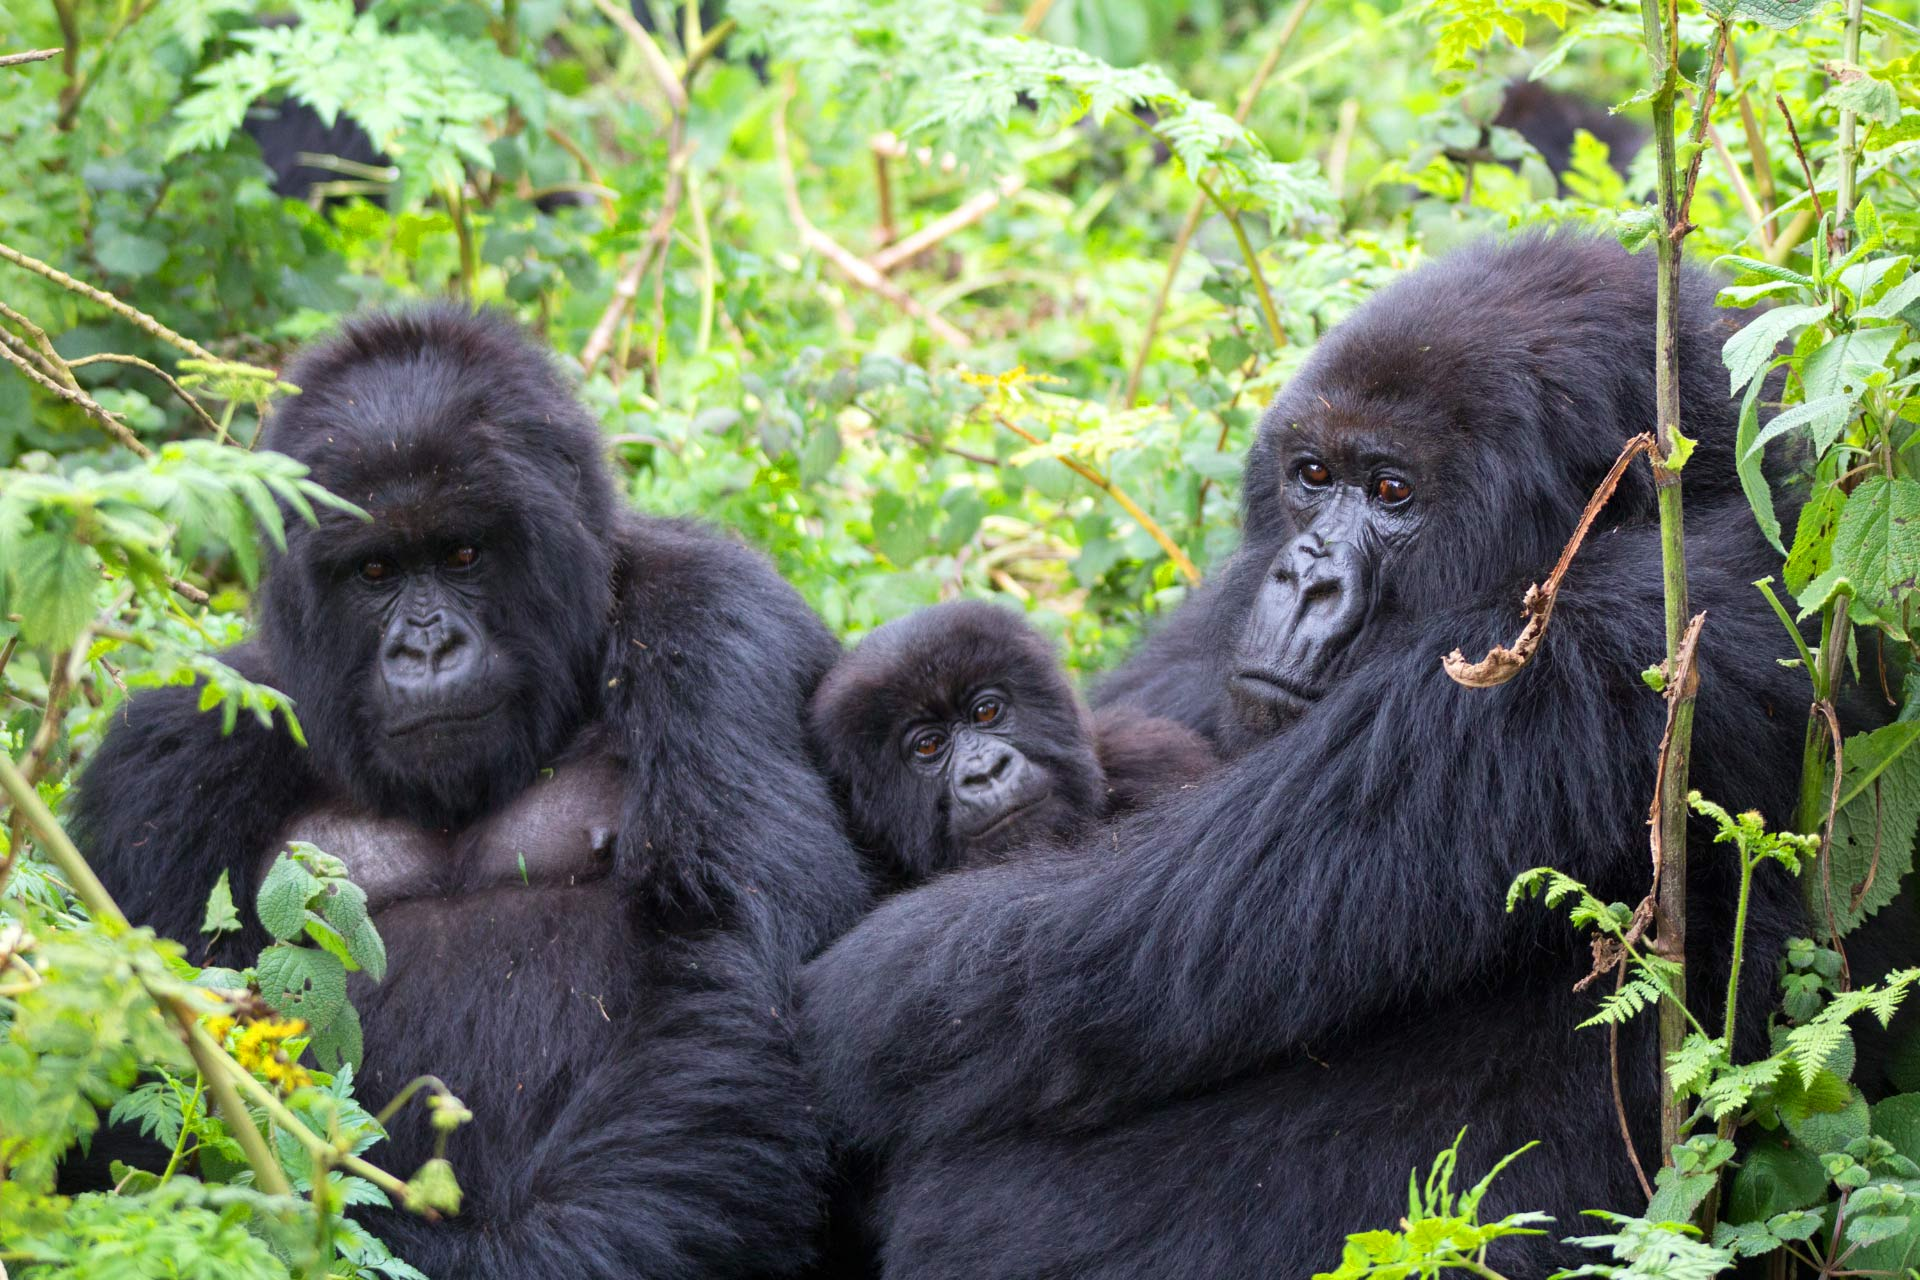Goriila: (1181, 201, 1920, 1273), (70, 344, 866, 1181), (804, 566, 1204, 901)
